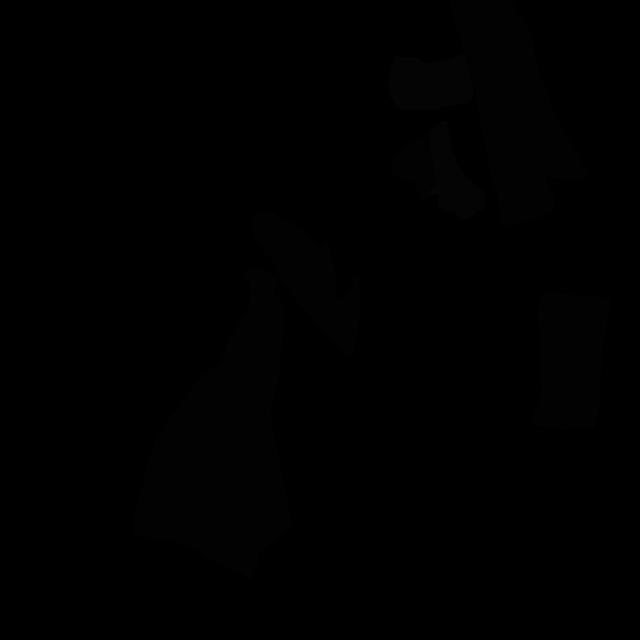cardboard: (134, 268, 293, 582), (449, 0, 589, 227), (251, 212, 363, 359), (530, 293, 610, 430), (391, 132, 435, 204)
soft_plastic: (426, 121, 486, 220), (388, 54, 474, 109)
